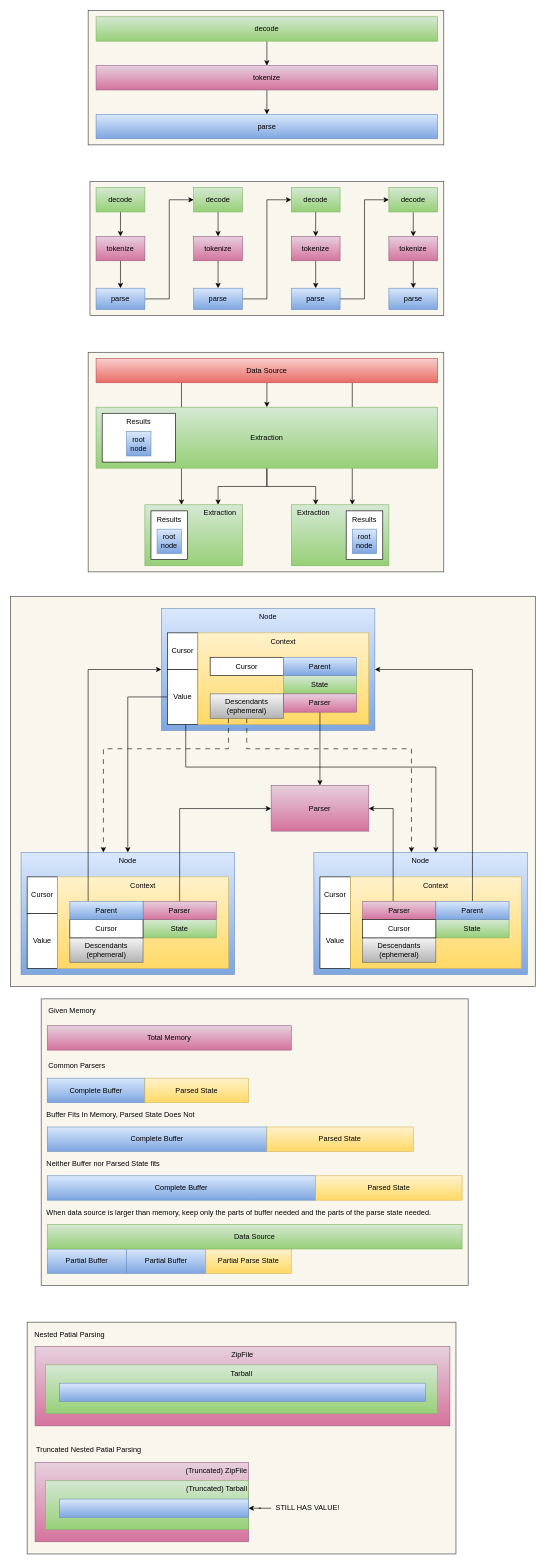
Image size: 546x1565. Some labels were removed from this diagram. The shapes that lost their labels are listed below. From the top down, each one's centre as x and y in pixels, then its label:
the point at 242,1392: XML
the point at 154,1507: (Truncated) XML
